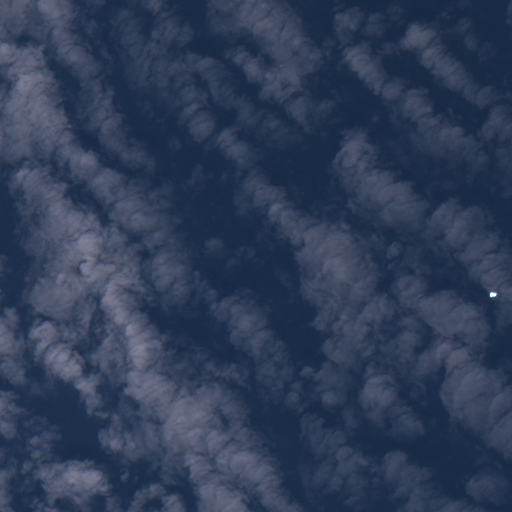Iceberg: (489, 292, 496, 297)
